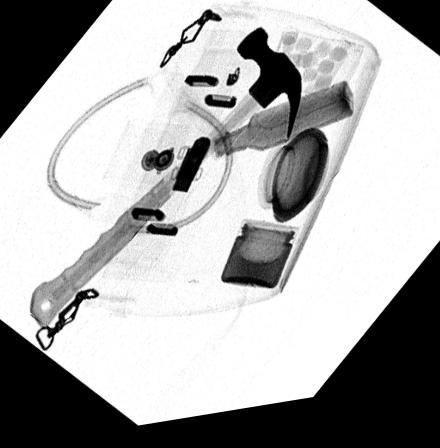Hammer: (29, 34, 301, 328)
